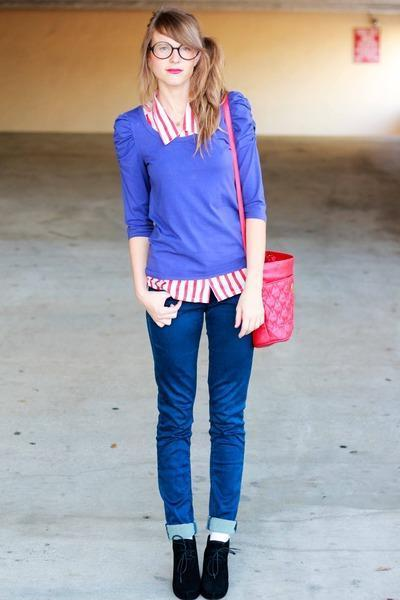long sleeve shirt: (113, 91, 268, 281)
trousers: (140, 270, 262, 538)
